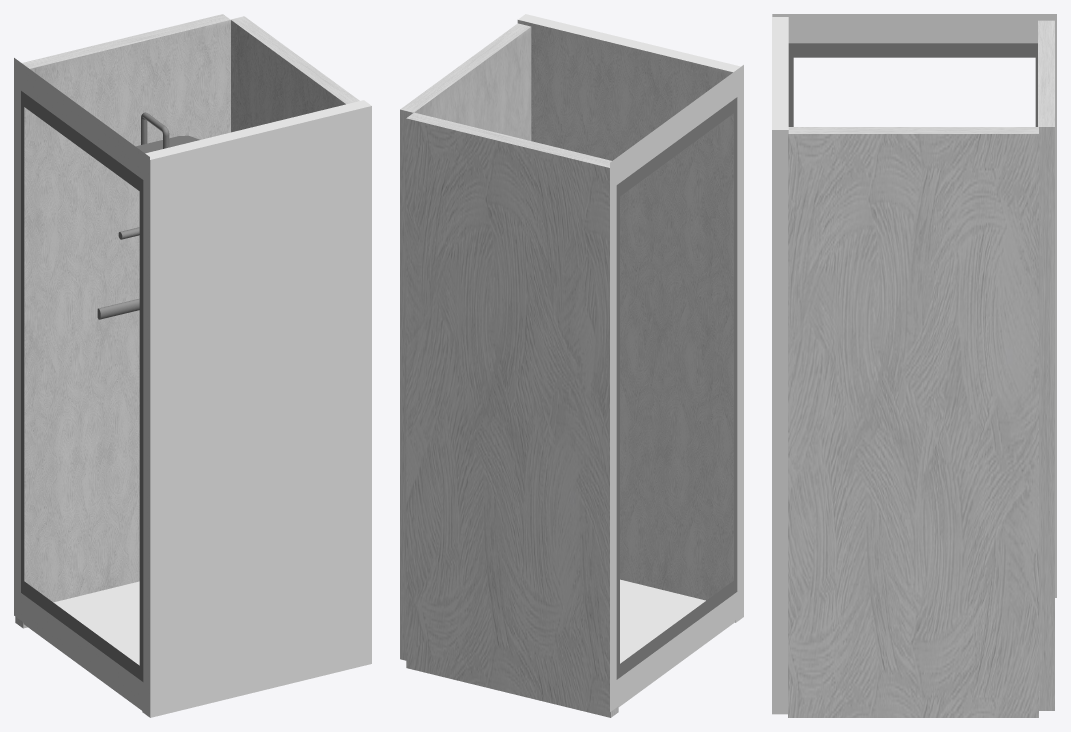
The model's file is kinewall-5.glb.
3 renders of one model, left to right at view 1: azimuth 30°, elevation 25°; view 2: azimuth 150°, elevation 25°; view 3: azimuth 270°, elevation 25°, orthographic. The views are drawn at different scales.
Parts seen in each view (by area): view 1: kinewall-back, kinewall; view 2: kinewall-back, kinewall; view 3: kinewall-back, kinewall.
Part boxes in pixels (box(x1,y1,x2,y2)): kinewall-back: box(15, 14, 371, 717); kinewall: box(14, 58, 199, 714); kinewall-back: box(400, 14, 743, 717); kinewall: box(610, 65, 743, 711); kinewall-back: box(772, 17, 1054, 717); kinewall: box(772, 14, 1056, 706).
Size of the model in its own units: 3.2 by 7.79 by 3.41.
4 materials, 1 textured.
